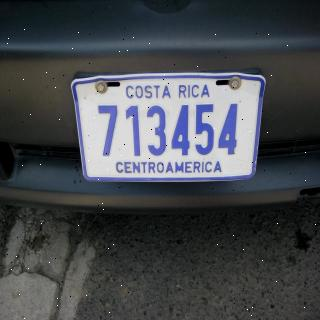license: (72, 75, 268, 184)
